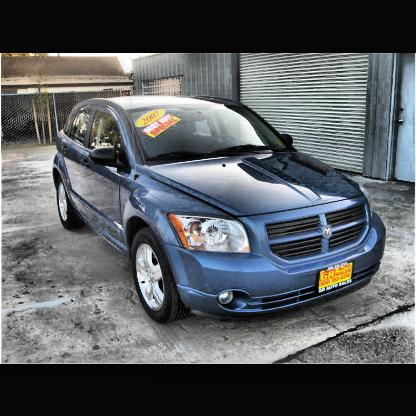Dodge Caliber Wagon 2012: (54, 96, 386, 324)
